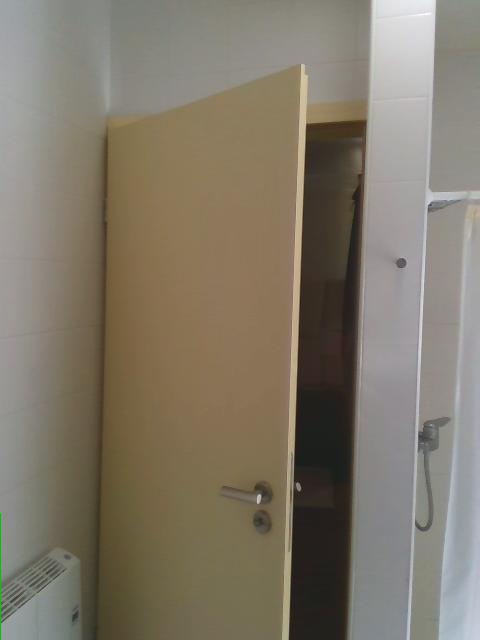semi_door: (97, 58, 368, 639)
